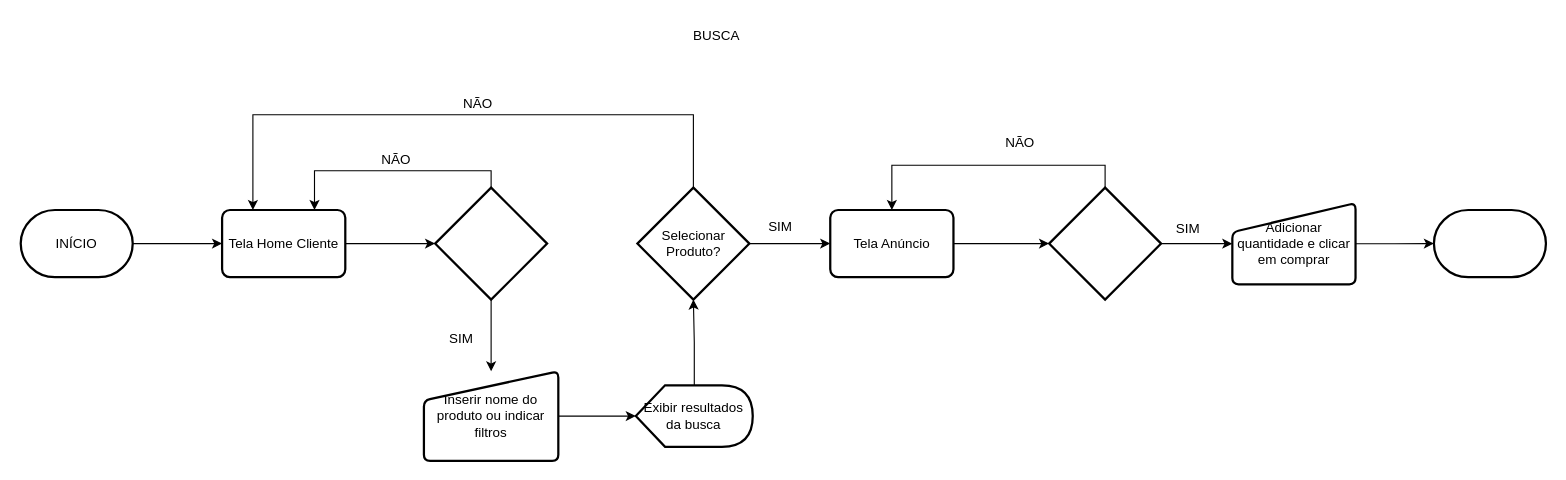
Image size: 1566x480. Some labels were removed from this diagram. The shapes that lost their labels are listed below. From the top down, each one's centre as x and y in pixels, then its label:
At point (490, 243): "Realizar busca?".
At point (1104, 243): "Adicionar no Carrinho?".
At point (1489, 243): "FIM".
